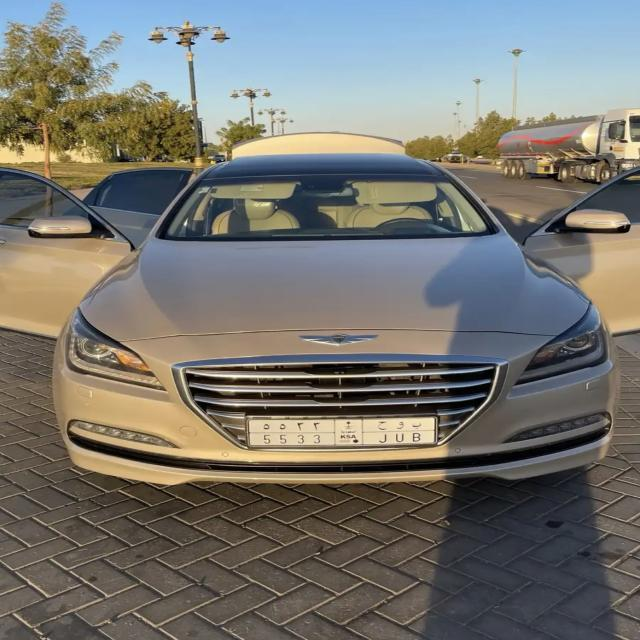license_plate: (246, 415, 439, 450)
